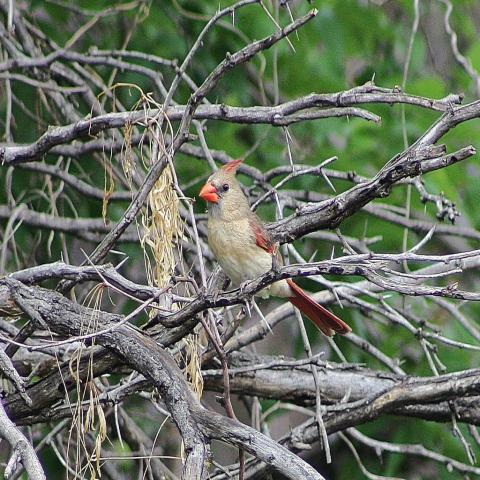bird: (196, 155, 352, 341)
